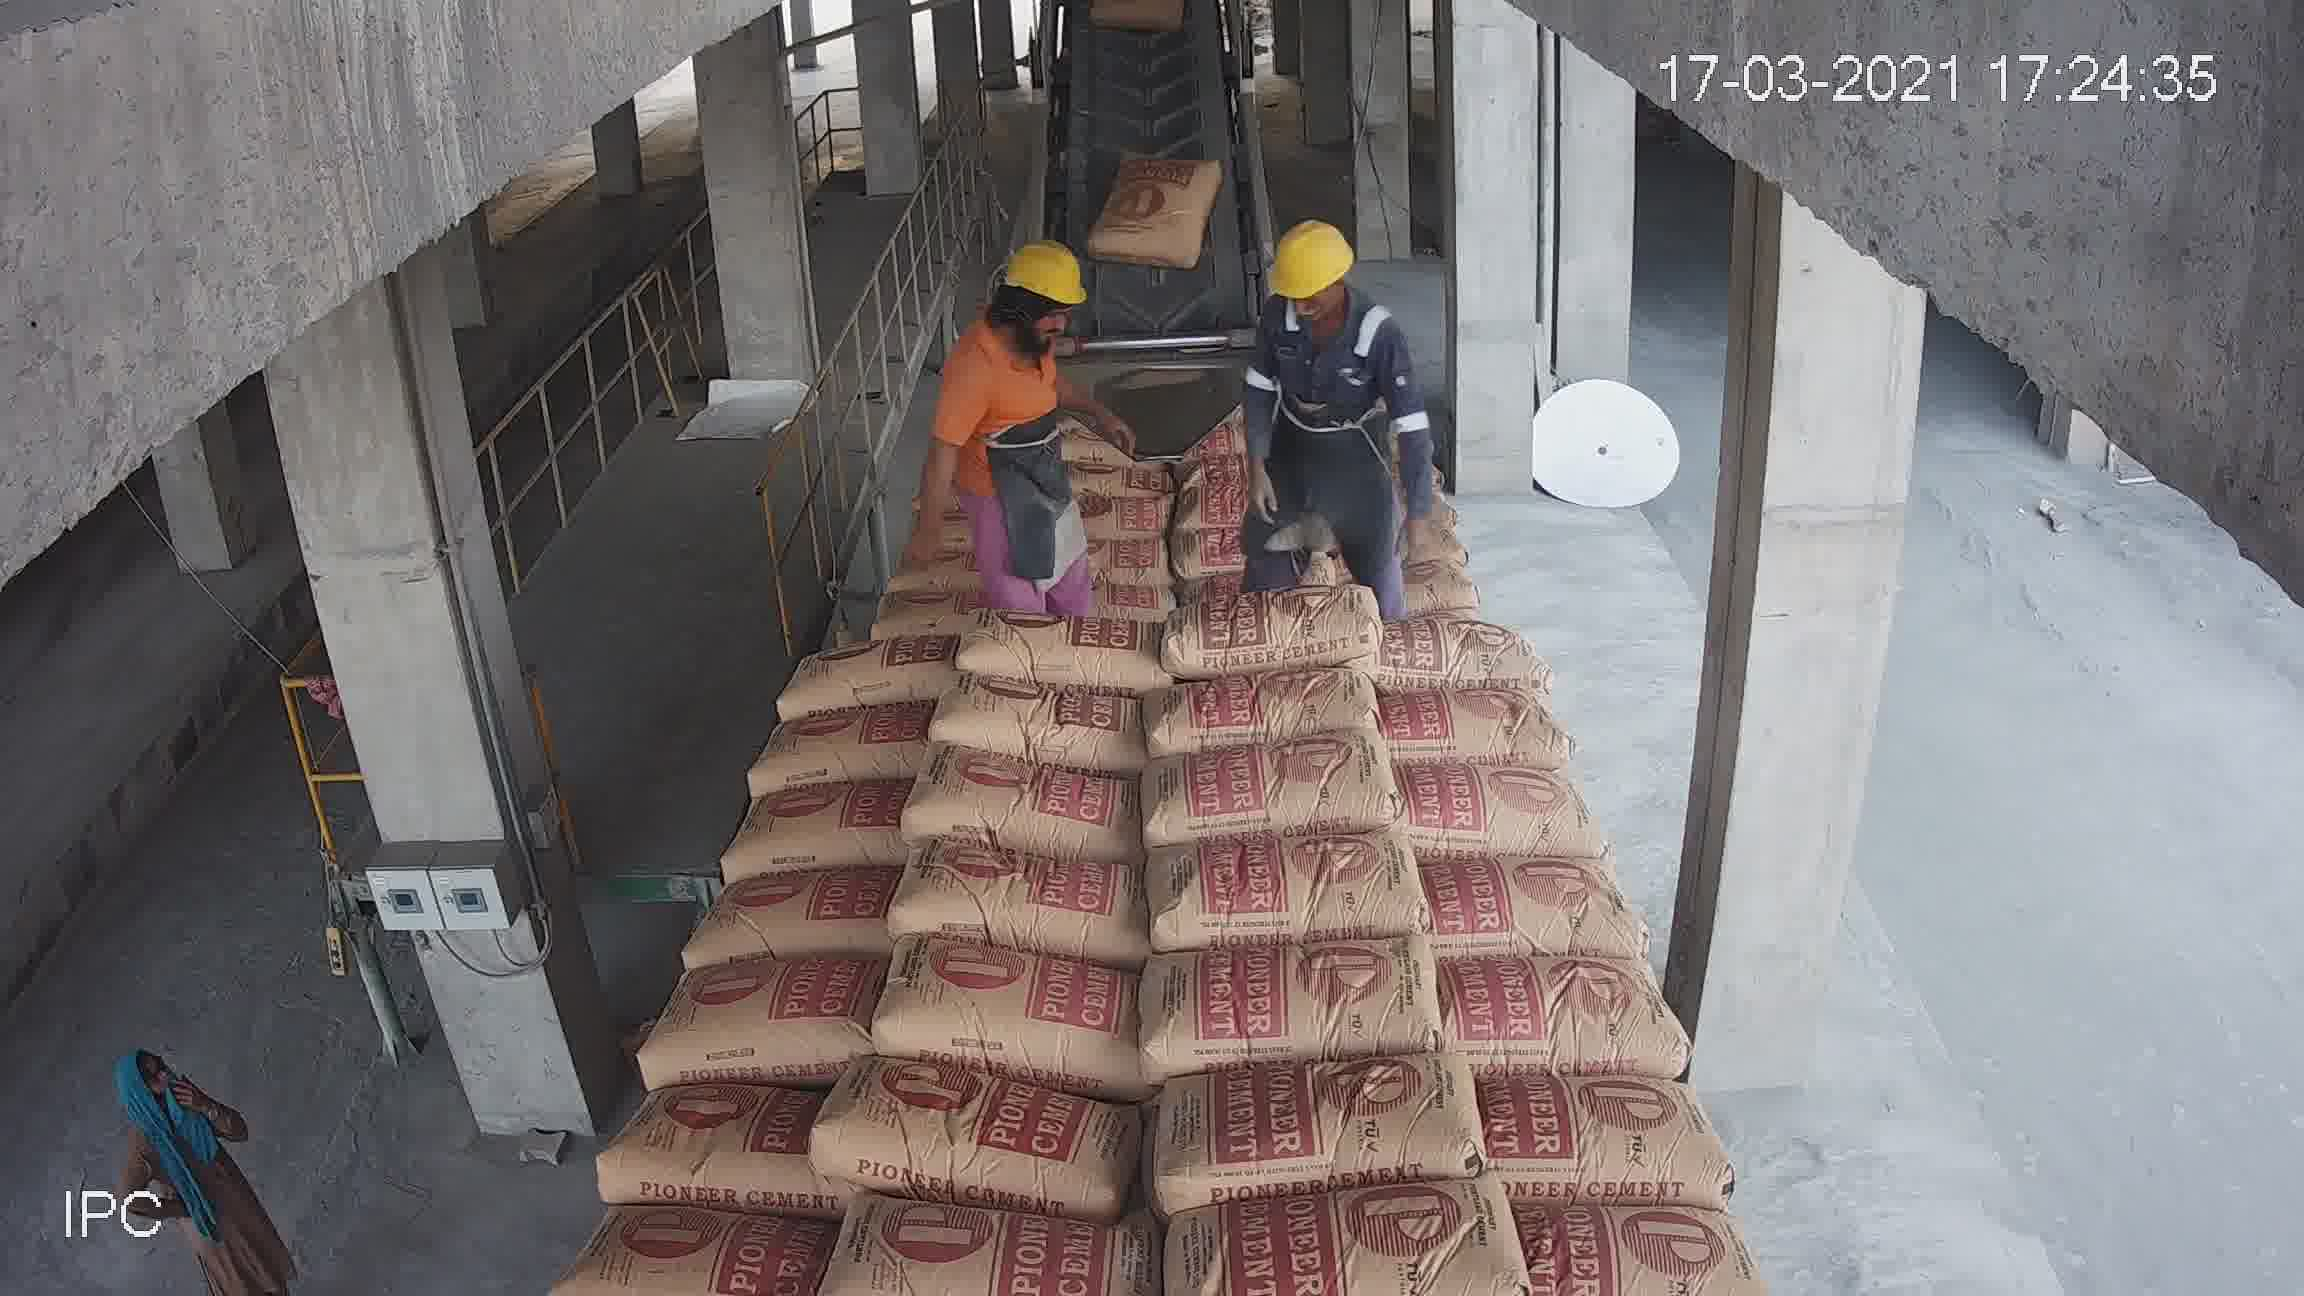bag: (1092, 215, 1211, 307)
bag_h: (1119, 1054, 1499, 1203), (1128, 927, 1435, 1078), (824, 1055, 1108, 1203), (1173, 1185, 1540, 1296), (859, 932, 1135, 1068), (1454, 946, 1715, 1086), (1143, 828, 1415, 954), (646, 850, 908, 976), (562, 1078, 820, 1203), (1483, 1089, 1730, 1215), (638, 951, 862, 1089), (923, 729, 1161, 856), (1152, 731, 1412, 847), (807, 1209, 1139, 1296), (1158, 567, 1375, 692), (535, 1201, 855, 1282), (1437, 836, 1635, 954), (883, 853, 1138, 942), (929, 658, 1161, 755), (1152, 661, 1380, 758), (1514, 1192, 1730, 1293), (953, 606, 1206, 684), (728, 772, 915, 870), (1154, 524, 1353, 604), (991, 529, 1161, 619), (1108, 484, 1332, 546), (793, 574, 987, 646), (793, 628, 951, 715), (1400, 676, 1551, 766), (812, 516, 972, 600), (745, 706, 921, 782), (1416, 767, 1575, 850), (1378, 627, 1571, 688), (989, 502, 1158, 567), (1337, 517, 1503, 579), (1343, 472, 1495, 536), (1347, 574, 1525, 628), (986, 465, 1150, 522), (1173, 411, 1339, 467), (1168, 451, 1323, 510), (1337, 415, 1476, 479), (1062, 328, 1184, 399), (847, 484, 991, 543), (862, 446, 995, 503), (1017, 424, 1150, 479), (1040, 312, 1179, 361)
belt: (1040, 22, 1249, 290)
